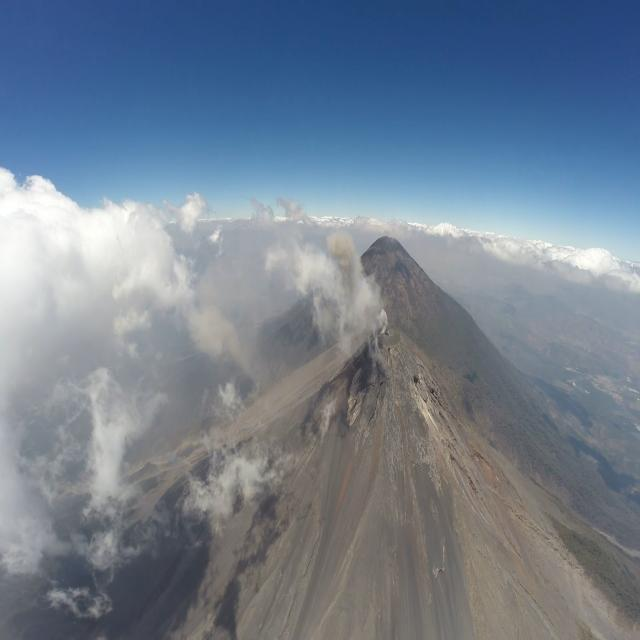Plume: (324, 228, 374, 310)
Summit: (309, 325, 464, 453)
